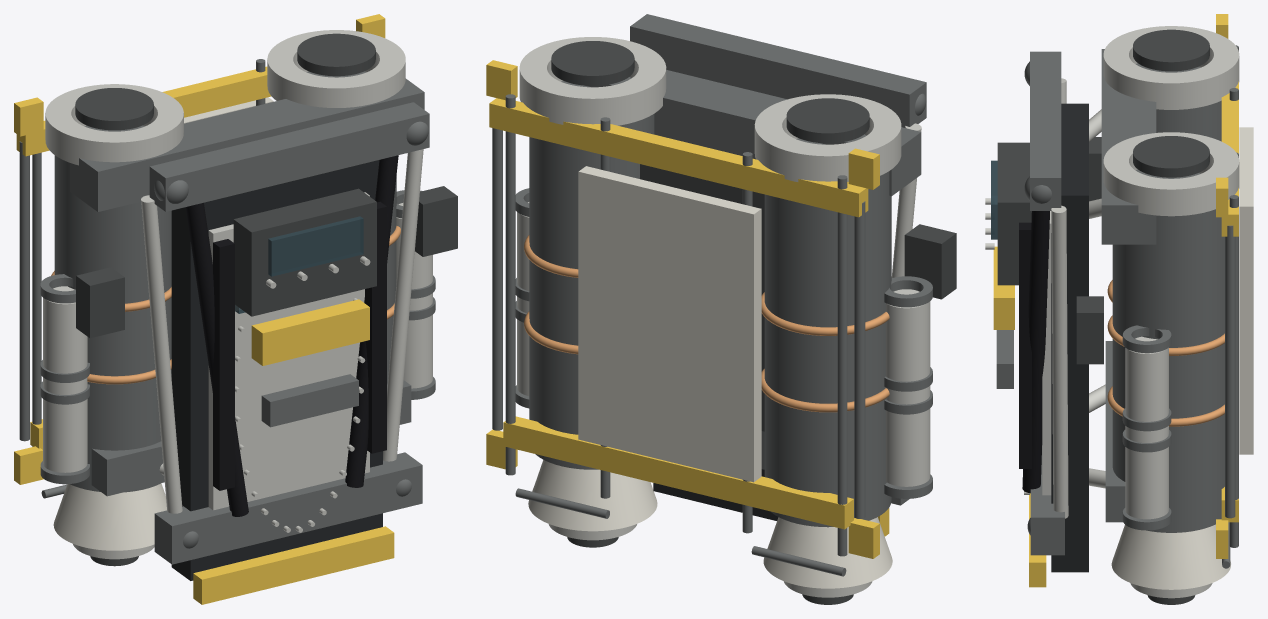
File: jetpack_concept_assembly.glb
3 renders of one model, left to right at view 1: azimuth 30°, elevation 25°; view 2: azimuth 150°, elevation 25°; view 3: azimuth 270°, elevation 25°, orthographic. The views are drawn at different scales.
Visible parts, largest first — view 1: =>[0:1:1:108], =>[0:1:1:5], =>[0:1:1:7], =>[0:1:1:267], =>[0:1:1:11], =>[0:1:1:13], =>[0:1:1:102], =>[0:1:1:15], =>[0:1:1:110], =>[0:1:1:152], =>[0:1:1:118], =>[0:1:1:25] (+28 smaller); view 2: =>[0:1:1:240], =>[0:1:1:108], =>[0:1:1:150], =>[0:1:1:11], =>[0:1:1:236], =>[0:1:1:238], =>[0:1:1:102], =>[0:1:1:152], =>[0:1:1:110], =>[0:1:1:160], =>[0:1:1:118], =>[0:1:1:195] (+27 smaller); view 3: =>[0:1:1:150], =>[0:1:1:5], =>[0:1:1:110], =>[0:1:1:152], =>[0:1:1:160], =>[0:1:1:102], =>[0:1:1:240], =>[0:1:1:29], =>[0:1:1:11], =>[0:1:1:27], =>[0:1:1:267], =>[0:1:1:213] (+27 smaller).
Boxes of the visible parts, left/top/right/bottom form: =>[0:1:1:108]: left=54, top=125, right=171, bottom=492; =>[0:1:1:5]: left=171, top=160, right=382, bottom=580; =>[0:1:1:7]: left=208, top=192, right=369, bottom=510; =>[0:1:1:267]: left=233, top=188, right=376, bottom=316; =>[0:1:1:11]: left=149, top=102, right=429, bottom=211; =>[0:1:1:13]: left=154, top=452, right=422, bottom=564; =>[0:1:1:102]: left=70, top=78, right=424, bottom=211; =>[0:1:1:15]: left=193, top=526, right=394, bottom=604; =>[0:1:1:110]: left=45, top=84, right=183, bottom=165; =>[0:1:1:152]: left=267, top=30, right=405, bottom=107; =>[0:1:1:118]: left=53, top=483, right=166, bottom=550; =>[0:1:1:25]: left=213, top=239, right=234, bottom=490; =>[0:1:1:240]: left=578, top=166, right=761, bottom=482; =>[0:1:1:108]: left=764, top=138, right=891, bottom=527; =>[0:1:1:150]: left=529, top=81, right=654, bottom=469; =>[0:1:1:11]: left=630, top=14, right=926, bottom=127; =>[0:1:1:236]: left=489, top=98, right=868, bottom=217; =>[0:1:1:238]: left=503, top=416, right=853, bottom=529; =>[0:1:1:102]: left=585, top=70, right=921, bottom=196; =>[0:1:1:152]: left=519, top=37, right=666, bottom=125; =>[0:1:1:110]: left=754, top=94, right=901, bottom=181; =>[0:1:1:160]: left=528, top=460, right=657, bottom=531; =>[0:1:1:118]: left=763, top=517, right=892, bottom=588; =>[0:1:1:195]: left=886, top=386, right=930, bottom=486; =>[0:1:1:150]: left=1112, top=173, right=1224, bottom=532; =>[0:1:1:5]: left=1051, top=103, right=1088, bottom=572; =>[0:1:1:110]: left=1103, top=26, right=1239, bottom=109; =>[0:1:1:152]: left=1103, top=132, right=1239, bottom=216; =>[0:1:1:160]: left=1111, top=524, right=1230, bottom=589; =>[0:1:1:102]: left=1101, top=49, right=1156, bottom=244; =>[0:1:1:240]: left=1239, top=127, right=1253, bottom=454; =>[0:1:1:29]: left=1051, top=205, right=1068, bottom=518; =>[0:1:1:11]: left=1030, top=51, right=1061, bottom=210; =>[0:1:1:27]: left=1022, top=211, right=1049, bottom=493; =>[0:1:1:267]: left=997, top=142, right=1031, bottom=285; =>[0:1:1:213]: left=1125, top=426, right=1168, bottom=519.
Size of the model in its own units: 0.8679 by 0.964 by 0.529.
